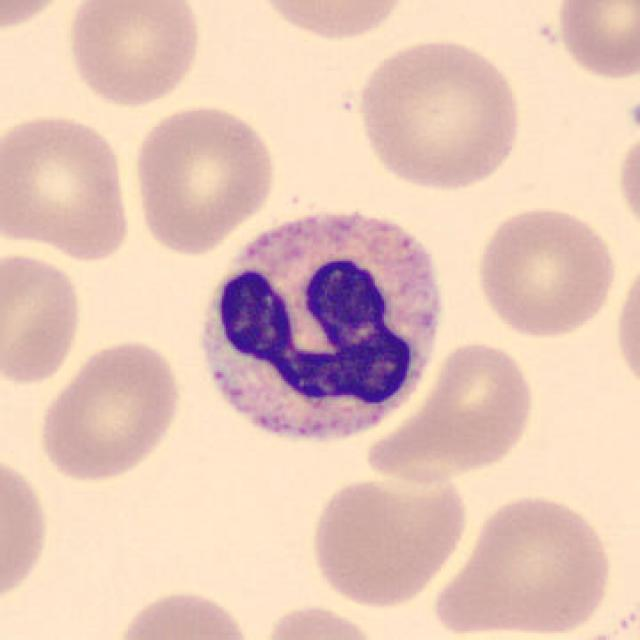Neutrophil: (187, 194, 453, 465)
RBC: (426, 488, 618, 638), (350, 33, 526, 194), (359, 337, 539, 485), (304, 467, 471, 610), (128, 100, 279, 256), (34, 335, 185, 485), (0, 108, 137, 262), (471, 201, 621, 340), (62, 0, 206, 109), (0, 247, 87, 388), (0, 446, 55, 612), (110, 583, 257, 640), (245, 0, 416, 44), (553, 0, 638, 85), (254, 601, 388, 640), (610, 249, 640, 402), (613, 124, 640, 242), (0, 0, 78, 35)
